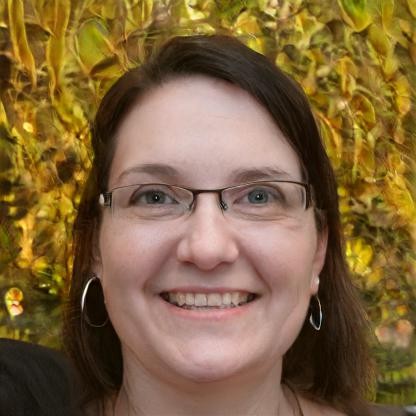glasses: (103, 176, 313, 229)
